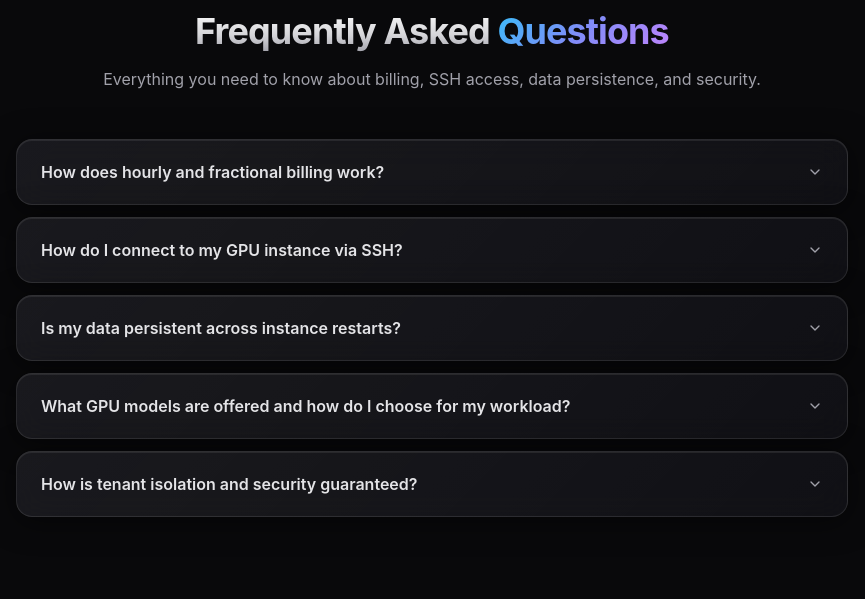
Test: Tier 2: Boundary Value & Corner Case Testing › Accordion State Consistency & Rapid Interactions › rapidly switching between distinct FAQ questions leaves only the last active
Click the button "How does hourly and fractional billing work?".
click(213, 172)  # box 17,140 -> 847,204
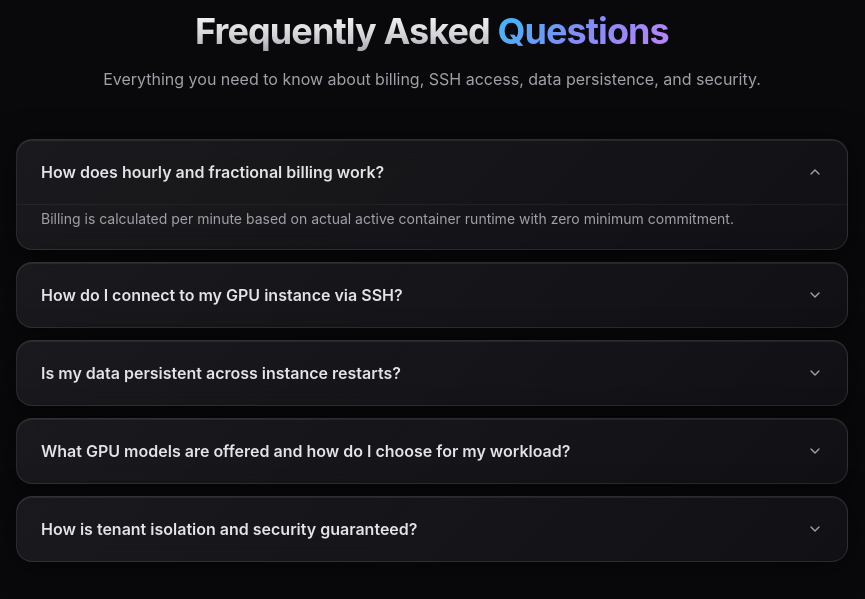
Click the button "How do I connect to my GPU instance via SSH?".
click(222, 295)  # box 17,263 -> 847,327
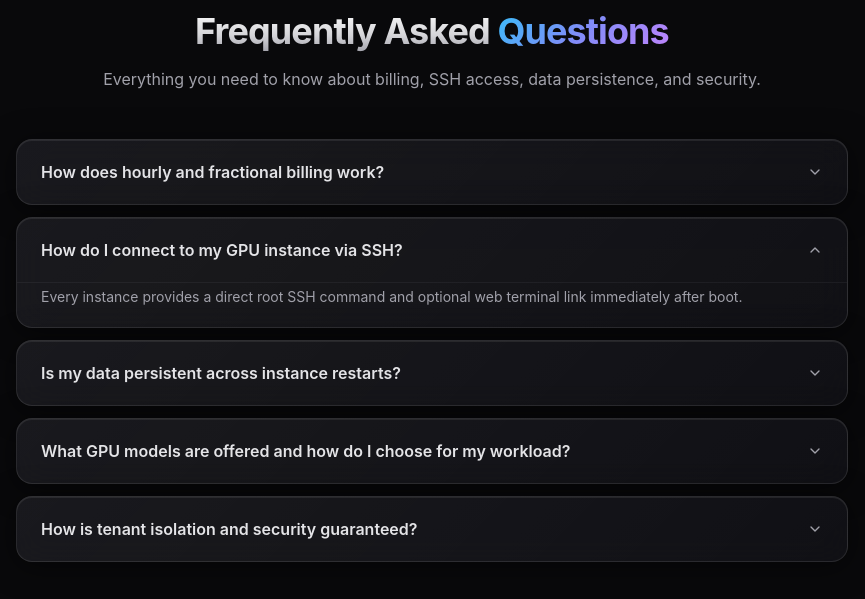
Click the button "Is my data persistent across instance restarts?".
click(221, 373)  # box 17,341 -> 847,405
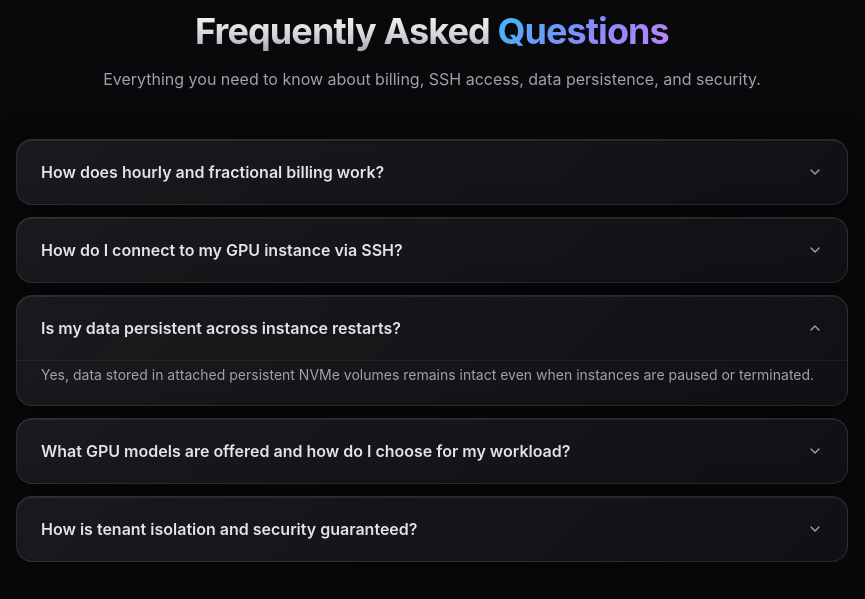
Click the button "?".
click(432, 451)  # box 17,419 -> 847,483
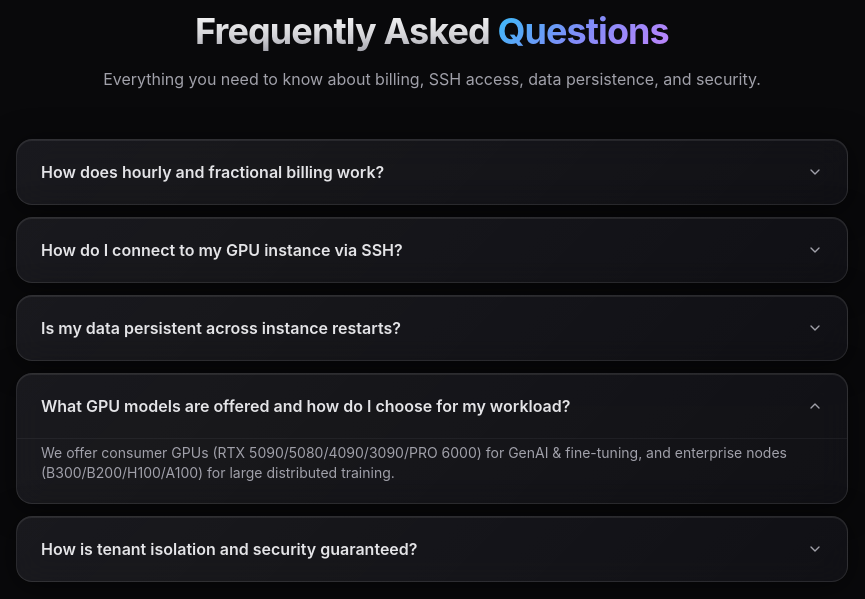
Click the button "How is tenant isolation and security guaranteed?".
click(229, 549)  # box 17,517 -> 847,581
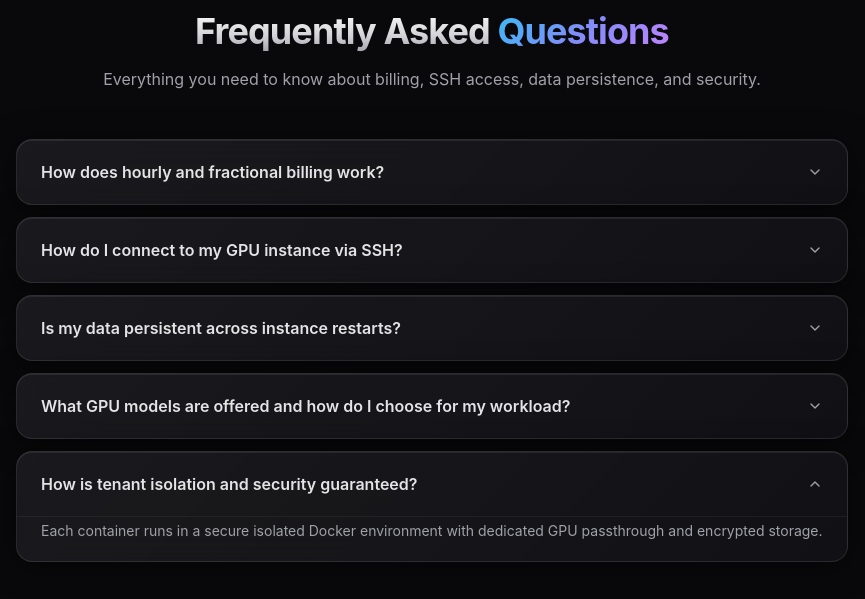
Result: the button "How does hourly and fractional billing work?" is collapsed at 17,140 -> 847,204
Result: the button "How do I connect to my GPU instance via SSH?" is collapsed at 17,218 -> 847,282
Result: the button "How is tenant isolation and security guaranteed?" is expanded at 17,452 -> 847,516
